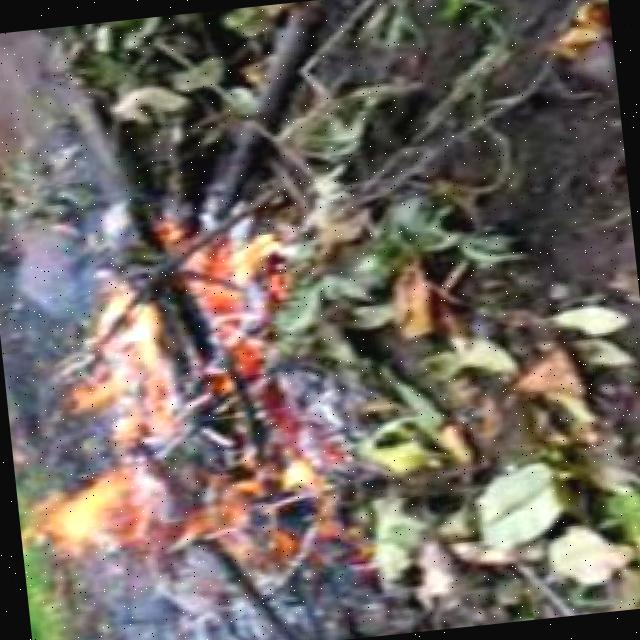fire: (7, 225, 316, 590)
